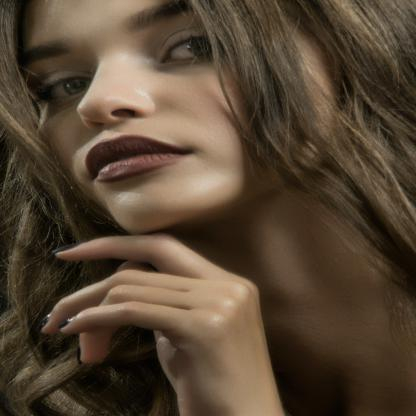Eye: (148, 30, 234, 68), (26, 62, 95, 105)
Mouth: (76, 130, 194, 185)
Nose: (78, 74, 160, 127)
